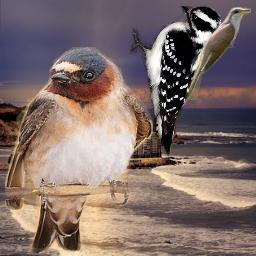Cuckoo: (184, 7, 251, 100)
Swallow: (5, 47, 153, 254)
Woodpecker: (130, 6, 222, 160)
